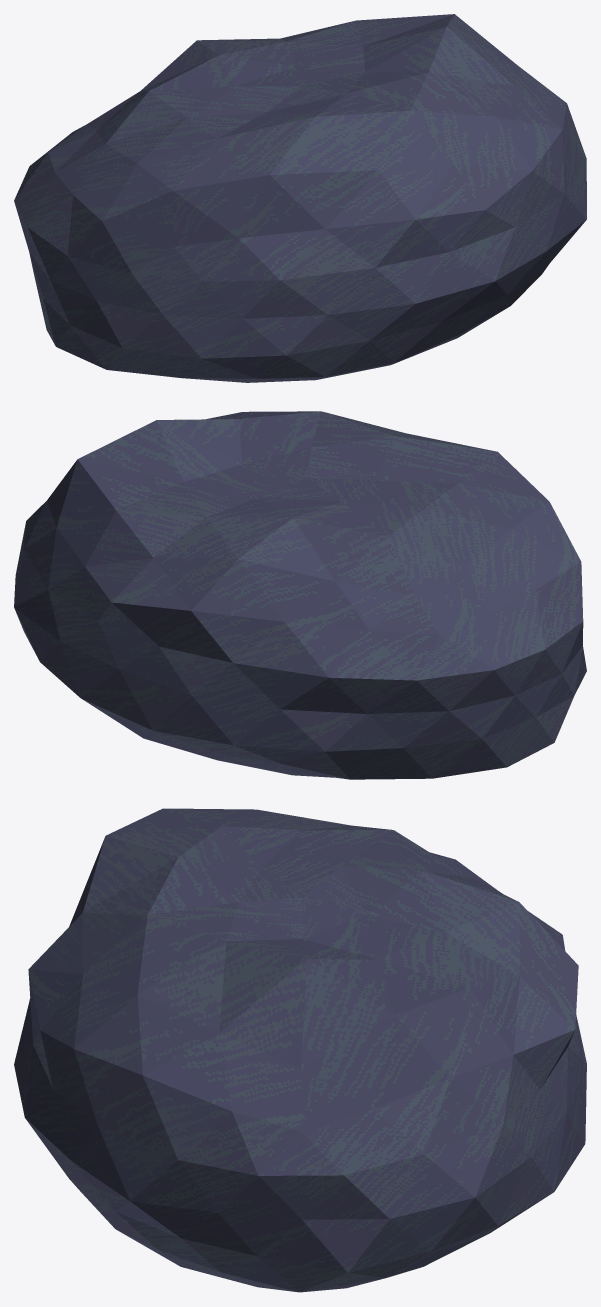
The model's file is Stein_1.fbx.
3 renders of one model, top to bottom at view 1: azimuth 30°, elevation 25°; view 2: azimuth 150°, elevation 25°; view 3: azimuth 270°, elevation 25°, orthographic. The views are drawn at different scales.
Visible parts, largest first — view 1: Icosphere; view 2: Icosphere; view 3: Icosphere.
Boxes of the visible parts, x1,y1,x2,y2 form: Icosphere: [14, 14, 586, 382]; Icosphere: [14, 411, 586, 779]; Icosphere: [14, 808, 586, 1292].
Size of the model in its own units: 819 by 435 by 627.
